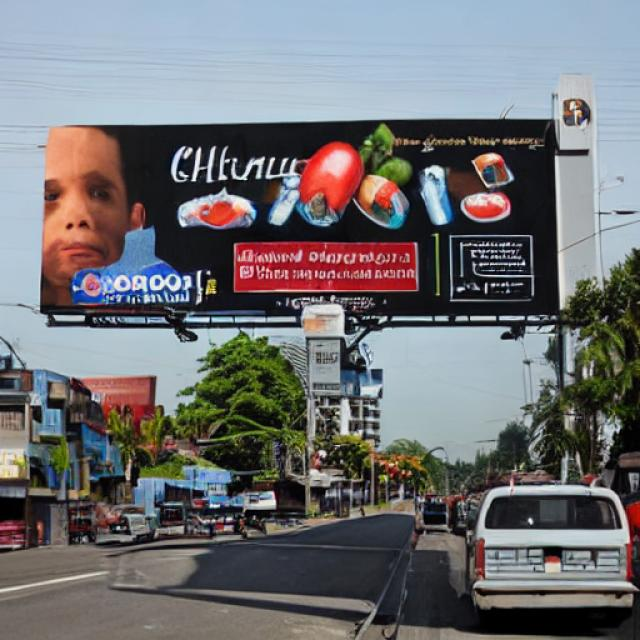Billboard: (34, 115, 558, 323)
